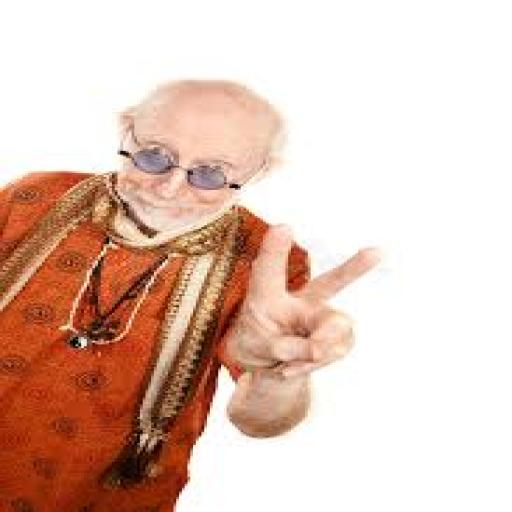Peace: (200, 211, 414, 394)
